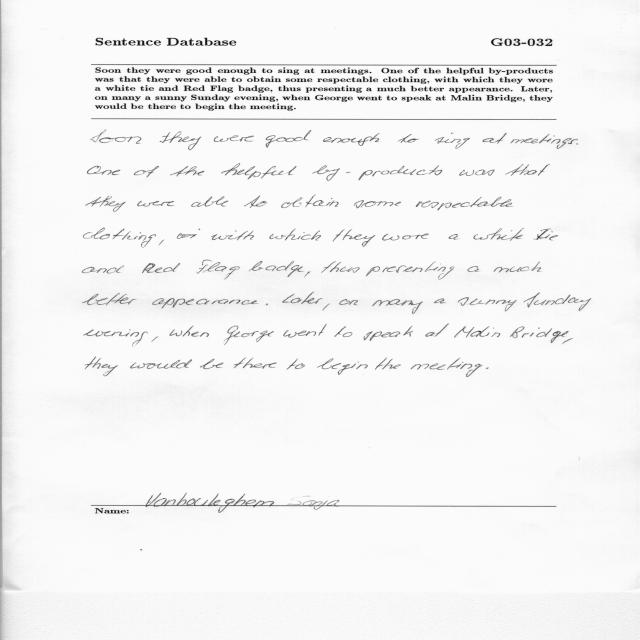word: (313, 165, 443, 181), (366, 262, 454, 280), (83, 228, 156, 248), (411, 358, 483, 377), (524, 293, 592, 312), (416, 197, 513, 210), (222, 164, 297, 180), (84, 329, 148, 347), (152, 298, 258, 308), (510, 134, 578, 149), (224, 326, 274, 345), (510, 327, 569, 343), (249, 261, 304, 277), (317, 358, 368, 375), (196, 260, 240, 279), (458, 298, 517, 312), (266, 130, 311, 148), (160, 132, 202, 151), (333, 229, 376, 247), (372, 299, 423, 314), (281, 195, 339, 208), (323, 133, 380, 146), (364, 326, 413, 341), (92, 130, 142, 144), (159, 229, 200, 245), (474, 228, 524, 241), (86, 196, 126, 212), (83, 293, 136, 305), (85, 357, 118, 376), (269, 229, 321, 241), (130, 359, 192, 369), (283, 324, 327, 337), (435, 133, 470, 149), (454, 326, 500, 338), (505, 164, 550, 176), (494, 262, 541, 273), (234, 357, 277, 369), (282, 292, 323, 304), (169, 325, 209, 337), (322, 261, 360, 273), (211, 231, 254, 241), (192, 196, 229, 207), (142, 263, 180, 273), (354, 201, 401, 209), (170, 166, 205, 176), (375, 357, 401, 370), (83, 266, 125, 274), (382, 234, 429, 241), (425, 324, 449, 337), (88, 166, 121, 175), (214, 135, 254, 142), (244, 196, 267, 208), (134, 166, 159, 177), (483, 133, 507, 144), (534, 229, 558, 240), (459, 169, 495, 176), (200, 359, 224, 369), (137, 201, 174, 207), (286, 359, 305, 370), (397, 134, 419, 143), (335, 326, 353, 337), (339, 299, 358, 305), (467, 266, 479, 272), (449, 234, 459, 240), (434, 299, 446, 304), (563, 338, 573, 344), (323, 304, 330, 311), (305, 271, 311, 277), (152, 336, 158, 342), (486, 367, 489, 369), (576, 143, 578, 145), (266, 304, 268, 306)
